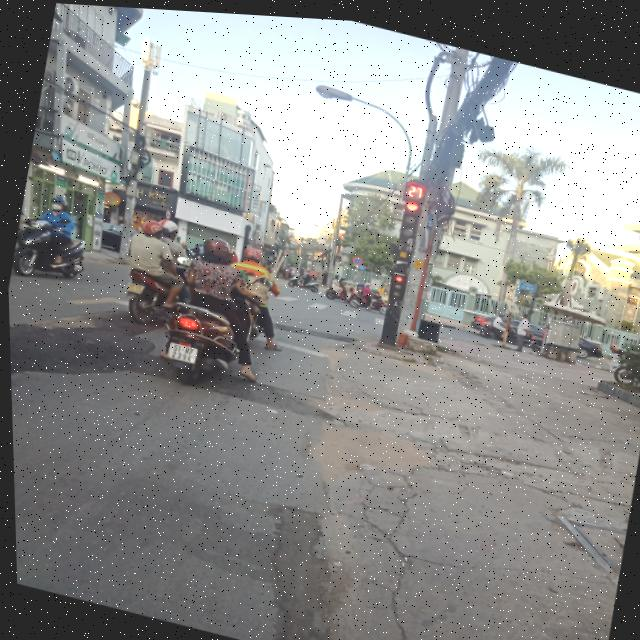Red: (393, 191, 423, 237), (385, 266, 407, 298)
